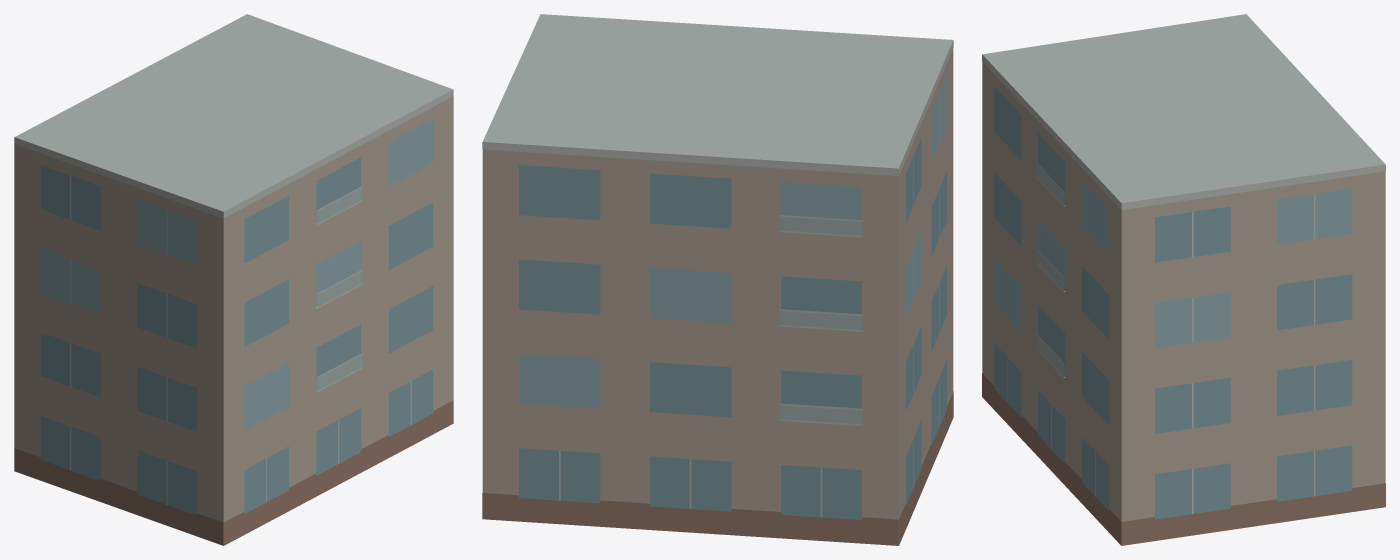
Rendered from residential-4ddea0b9-162b-4045-bb4d-a47c73130abd.glb.
3 renders of one model, left to right at view 1: azimuth 30°, elevation 25°; view 2: azimuth 150°, elevation 25°; view 3: azimuth 270°, elevation 25°, orthographic. The views are drawn at different scales.
Parts seen in each view (by area): view 1: residential-4ddea0b9-162b-4045-bb4d-a47c73130abd.tmp; view 2: residential-4ddea0b9-162b-4045-bb4d-a47c73130abd.tmp; view 3: residential-4ddea0b9-162b-4045-bb4d-a47c73130abd.tmp.
Boxes of the visible parts, x1,y1,x2,y2 form: residential-4ddea0b9-162b-4045-bb4d-a47c73130abd.tmp: (14,14,453,545); residential-4ddea0b9-162b-4045-bb4d-a47c73130abd.tmp: (482,14,953,545); residential-4ddea0b9-162b-4045-bb4d-a47c73130abd.tmp: (982,14,1385,545).
Bounding box in the file's own units: 14.46 × 12.2 × 13.04.
